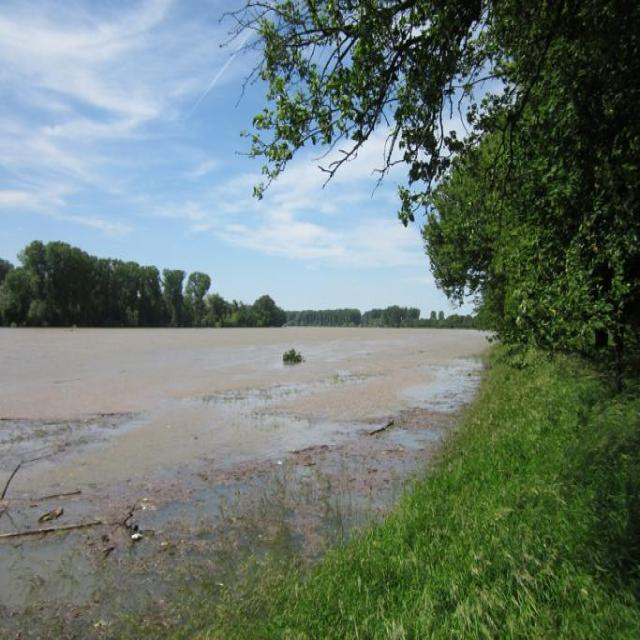flood: (0, 303, 491, 434)
